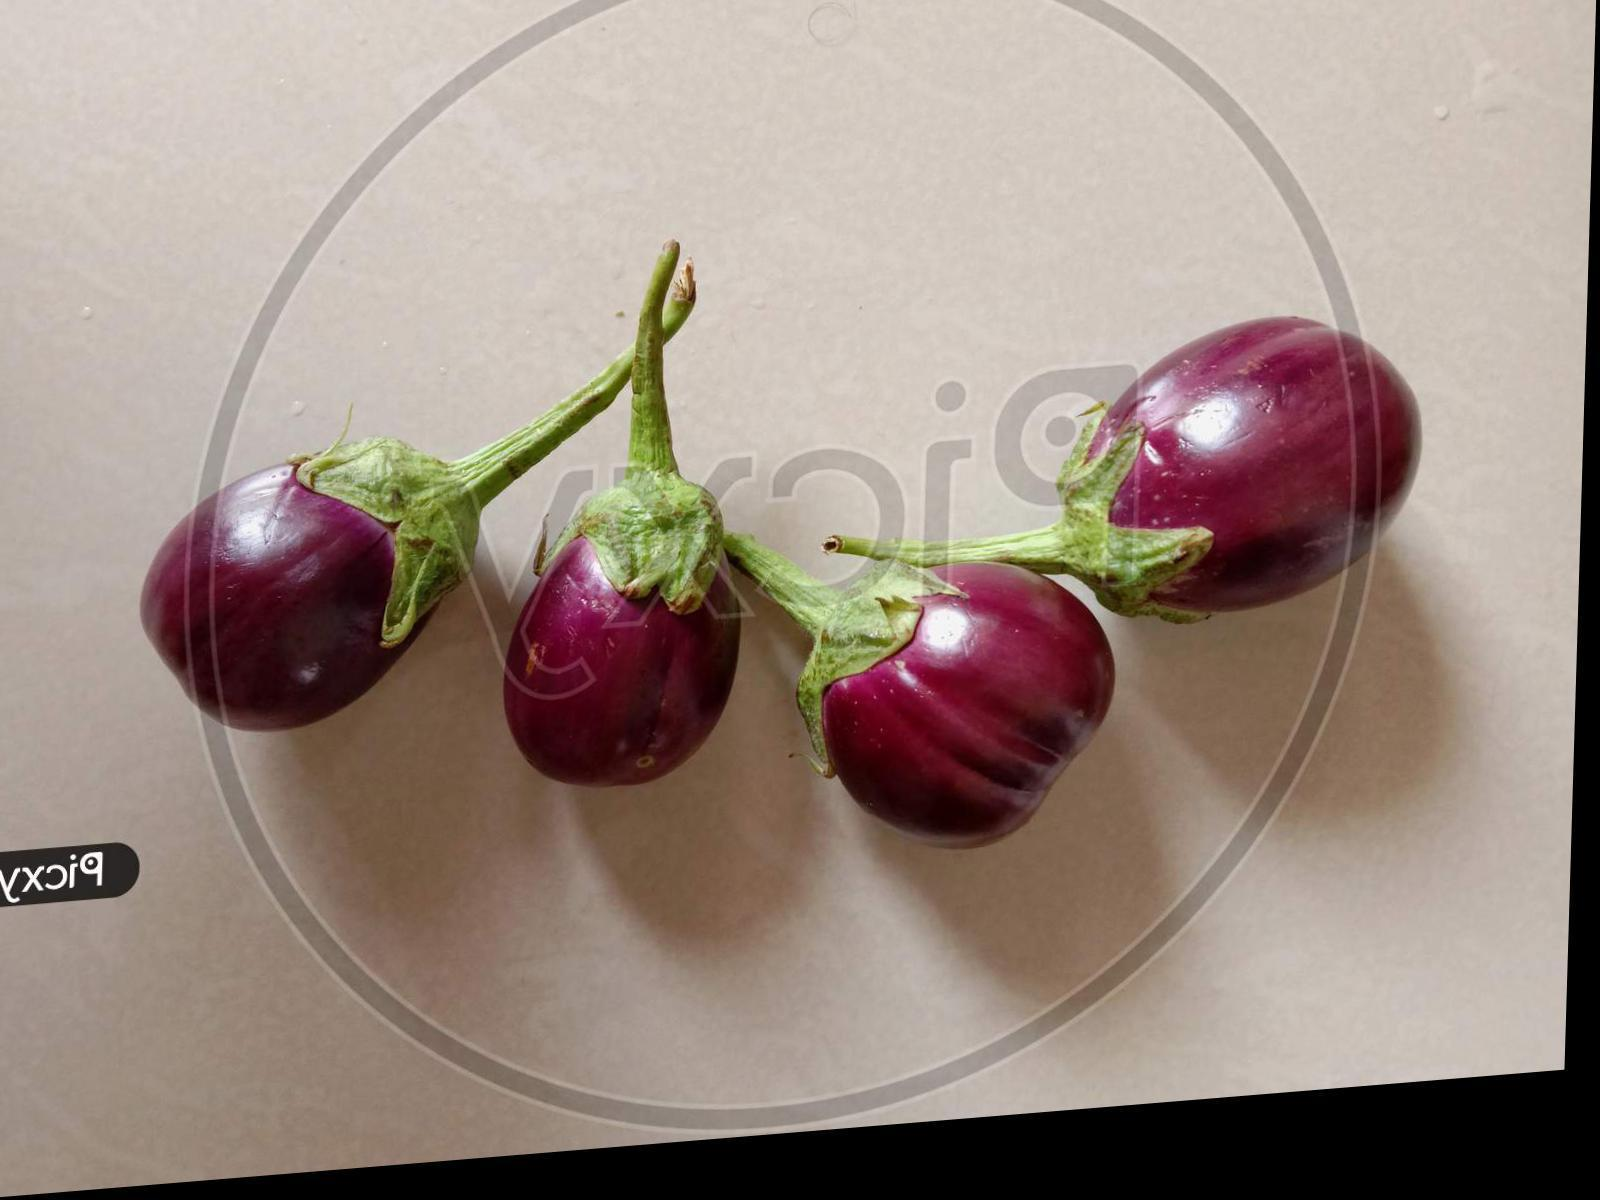eggplant: (94, 326, 635, 797), (752, 498, 1165, 891), (1043, 310, 1449, 653), (471, 382, 797, 799)
